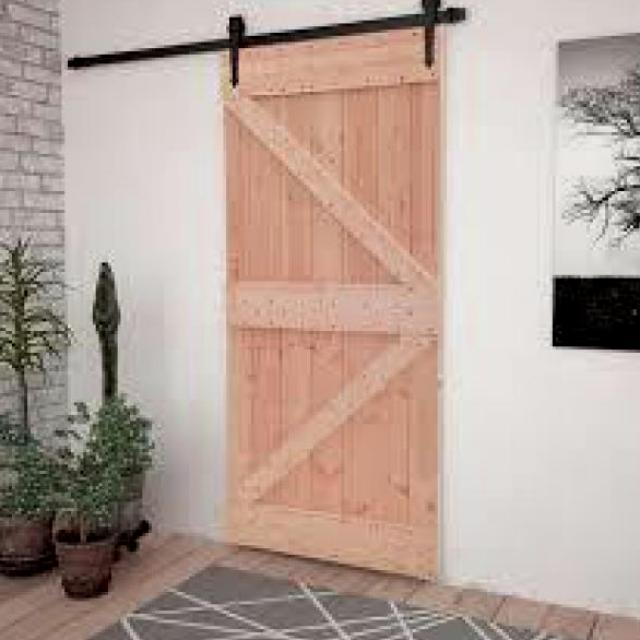door: (205, 9, 460, 593)
